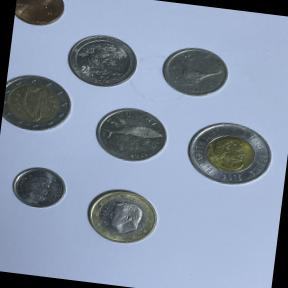coin: (180, 114, 280, 196), (79, 180, 164, 251), (89, 101, 174, 168), (1, 70, 78, 138), (62, 30, 144, 92), (6, 158, 73, 217), (13, 0, 69, 32)
